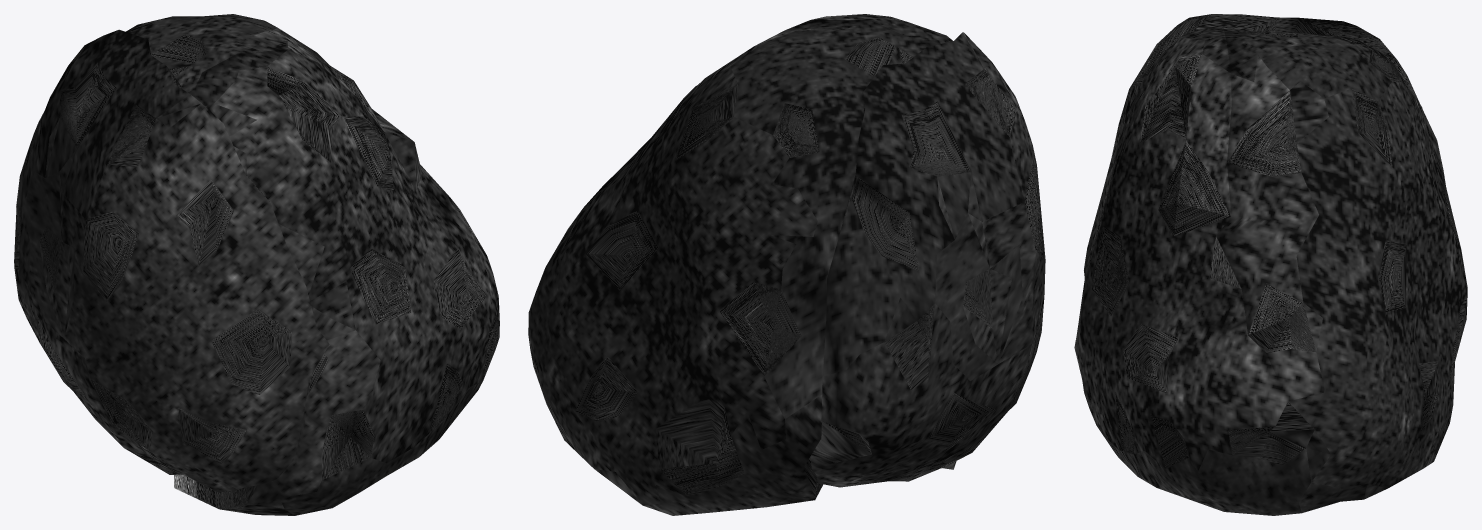
File: Coal_Depleted.glb
3 views of the same model, side by side, from view 1: azimuth 30°, elevation 25°; view 2: azimuth 150°, elevation 25°; view 3: azimuth 270°, elevation 25° (orthographic). The views are drawn at different scales.
Parts seen in each view (by area): view 1: Rock 1, Rock 3, Rock 2; view 2: Rock 2, Rock 1, Rock 3; view 3: Rock 2, Rock 3, Rock 1.
Part boxes in pixels (x1,y1,x2,y2): Rock 1: [14, 29, 329, 492]; Rock 3: [174, 49, 499, 515]; Rock 2: [126, 14, 448, 195]; Rock 2: [528, 20, 940, 515]; Rock 1: [810, 32, 1045, 487]; Rock 3: [811, 14, 956, 469]; Rock 2: [1207, 28, 1467, 512]; Rock 3: [1074, 28, 1314, 515]; Rock 1: [1084, 14, 1445, 278].
Size of the model in its own units: 1.05 by 1.05 by 0.9288.
1 material, 1 textured.
